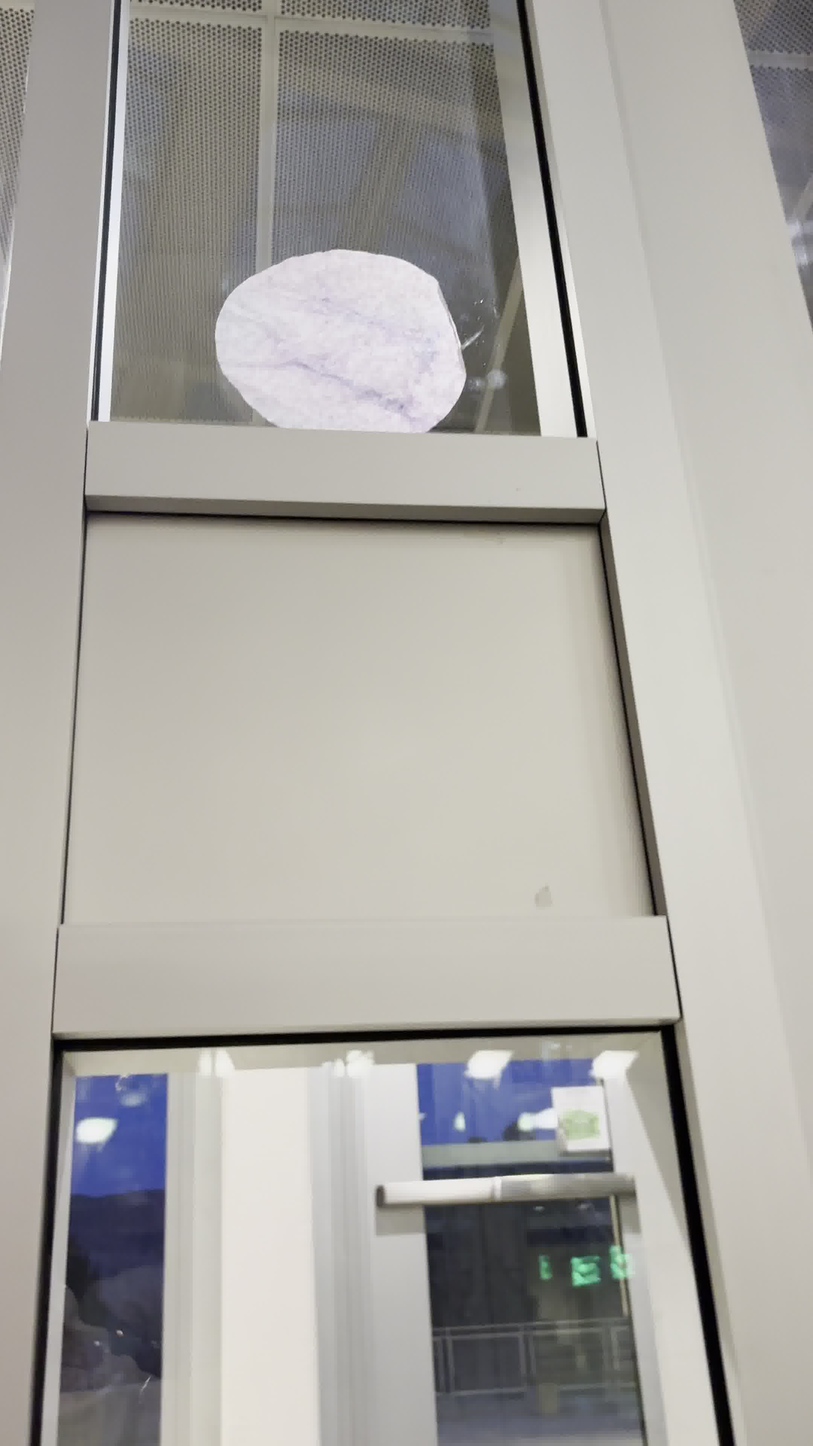Target: (210, 243, 471, 438)
